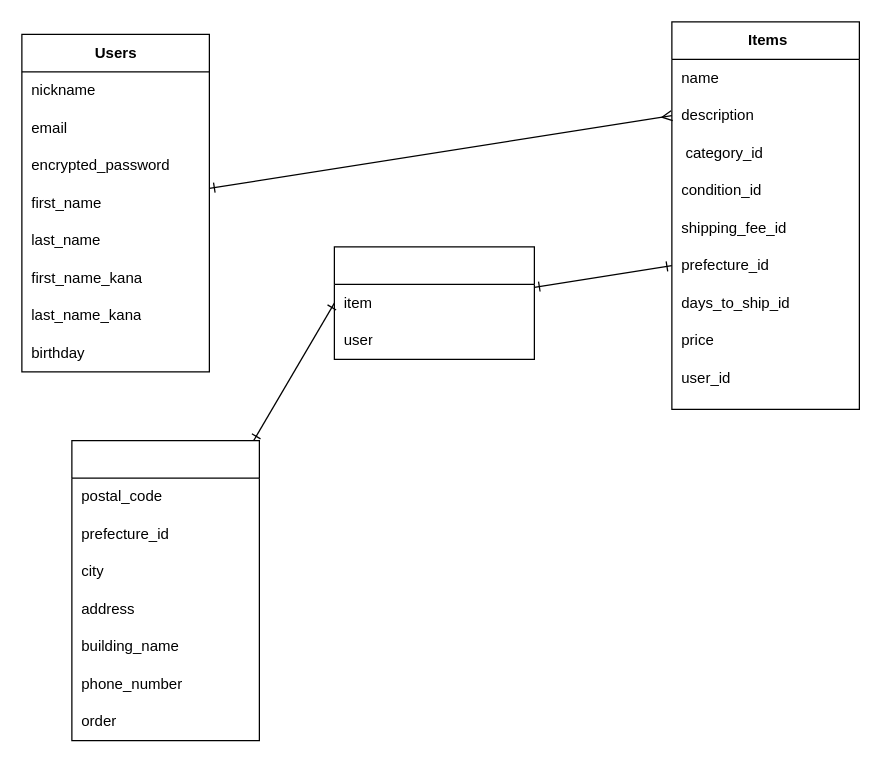
Image size: 881x763. Some labels were removed from this diagram. The shapes that lost their labels are listed below. From the top down, each one's box as (x1, y1, x2, y2) in pixels, then its label:
(333, 246, 534, 359): Orders
(71, 439, 259, 741): Addresses
